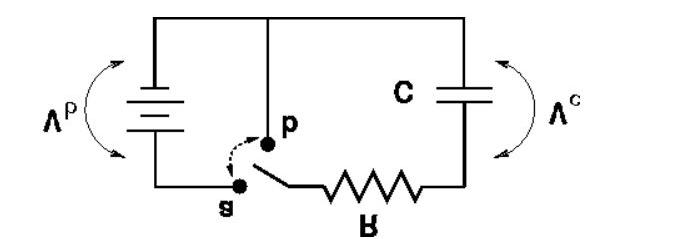Capacitor: (430, 61, 490, 129)
